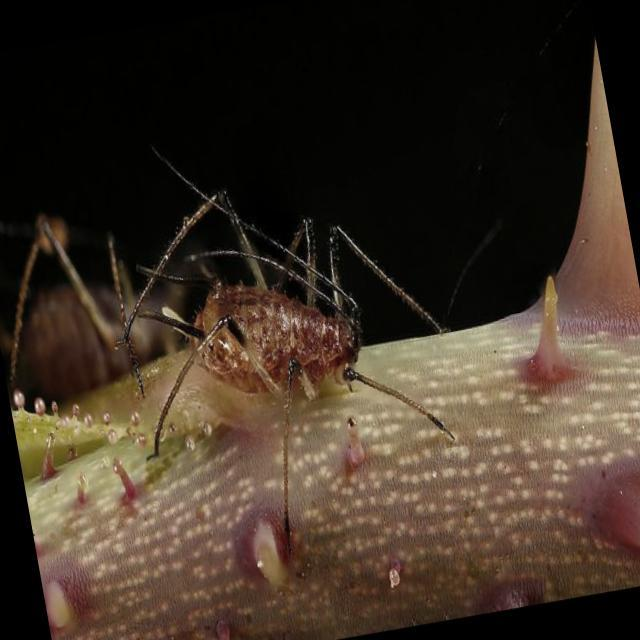aphid: (93, 160, 460, 548)
